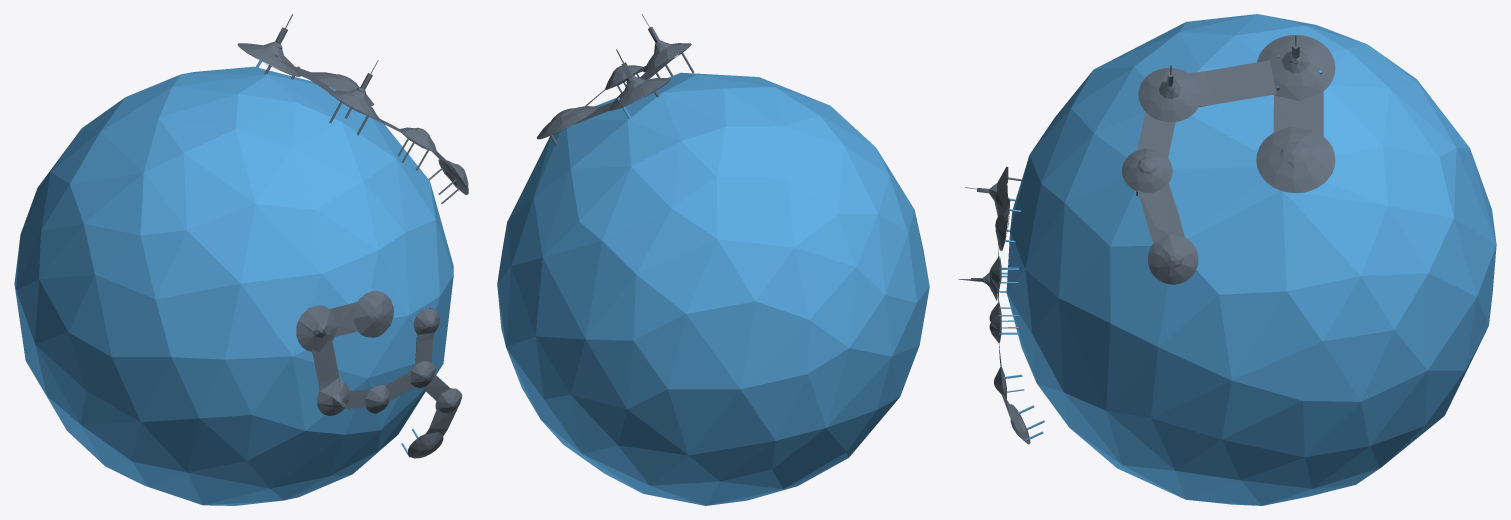
The model's file is kamino.dae.
The picture shows the model from 3 angles, left to right: view 1: azimuth 30°, elevation 25°; view 2: azimuth 150°, elevation 25°; view 3: azimuth 270°, elevation 25°; orthographic projection. The views are drawn at different scales.
Visible parts, largest first — view 1: Icosphere_001; view 2: Icosphere_001; view 3: Icosphere_001.
Part boxes in pixels (bbox=[...]): Icosphere_001: bbox=[14, 14, 468, 505]; Icosphere_001: bbox=[497, 14, 929, 505]; Icosphere_001: bbox=[958, 14, 1496, 505].
Size of the model in its own units: 6.1 by 6.58 by 6.63.
